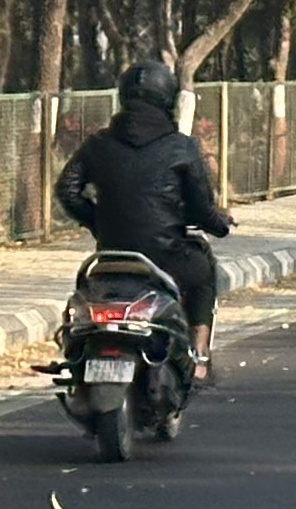BikeWithRider: (46, 59, 236, 466)
Helmet: (113, 61, 180, 120)
